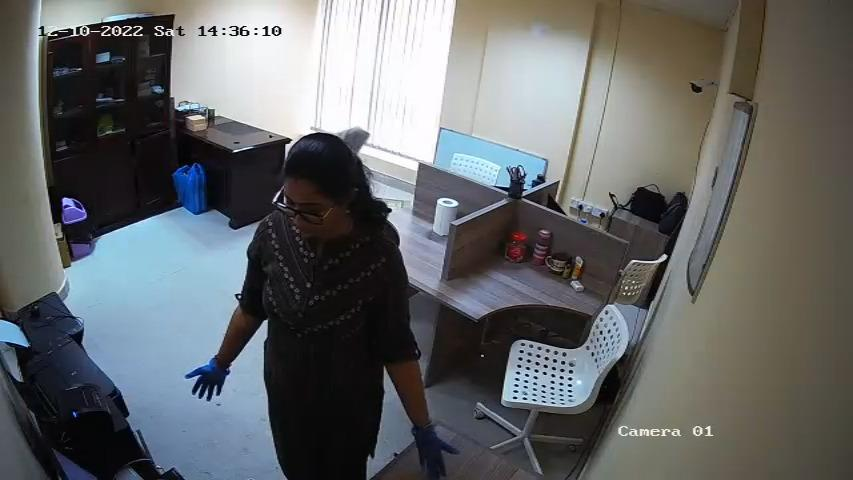gloves: (406, 425, 464, 480), (180, 355, 235, 403)
